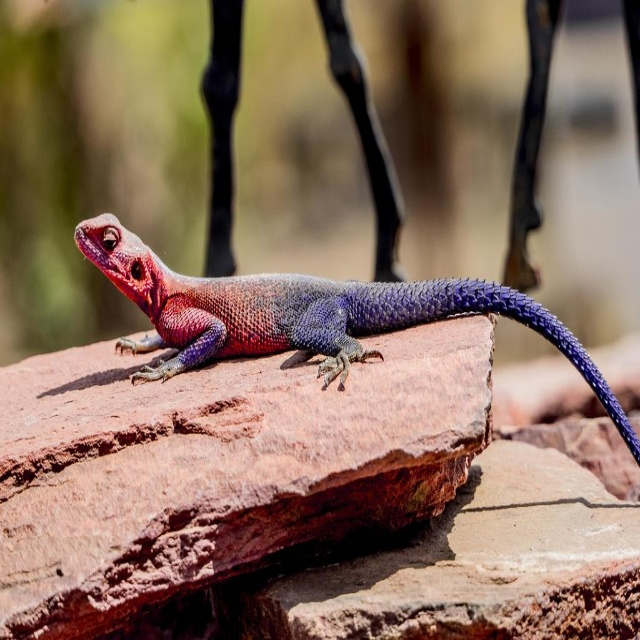Lizard: (74, 212, 640, 468)
